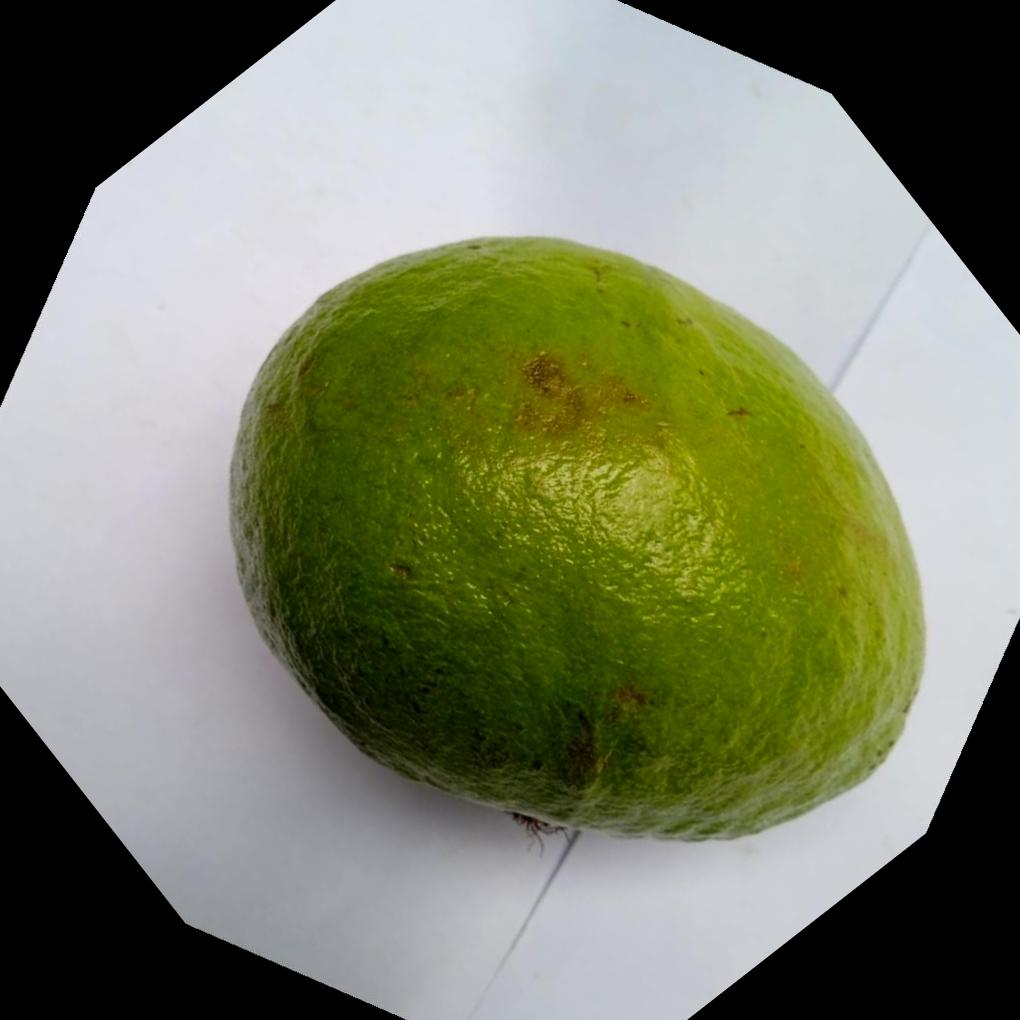FreshGuava: (228, 235, 930, 847)
